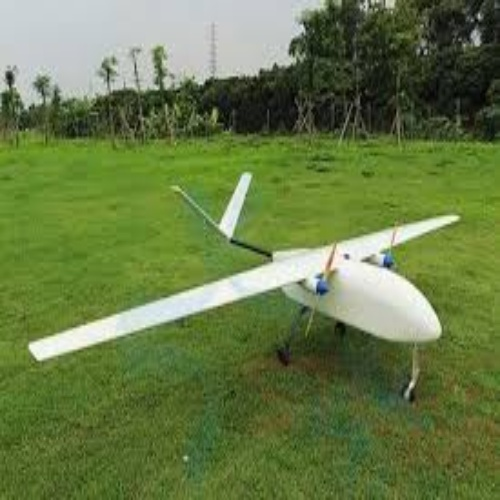uav: (26, 165, 463, 397)
